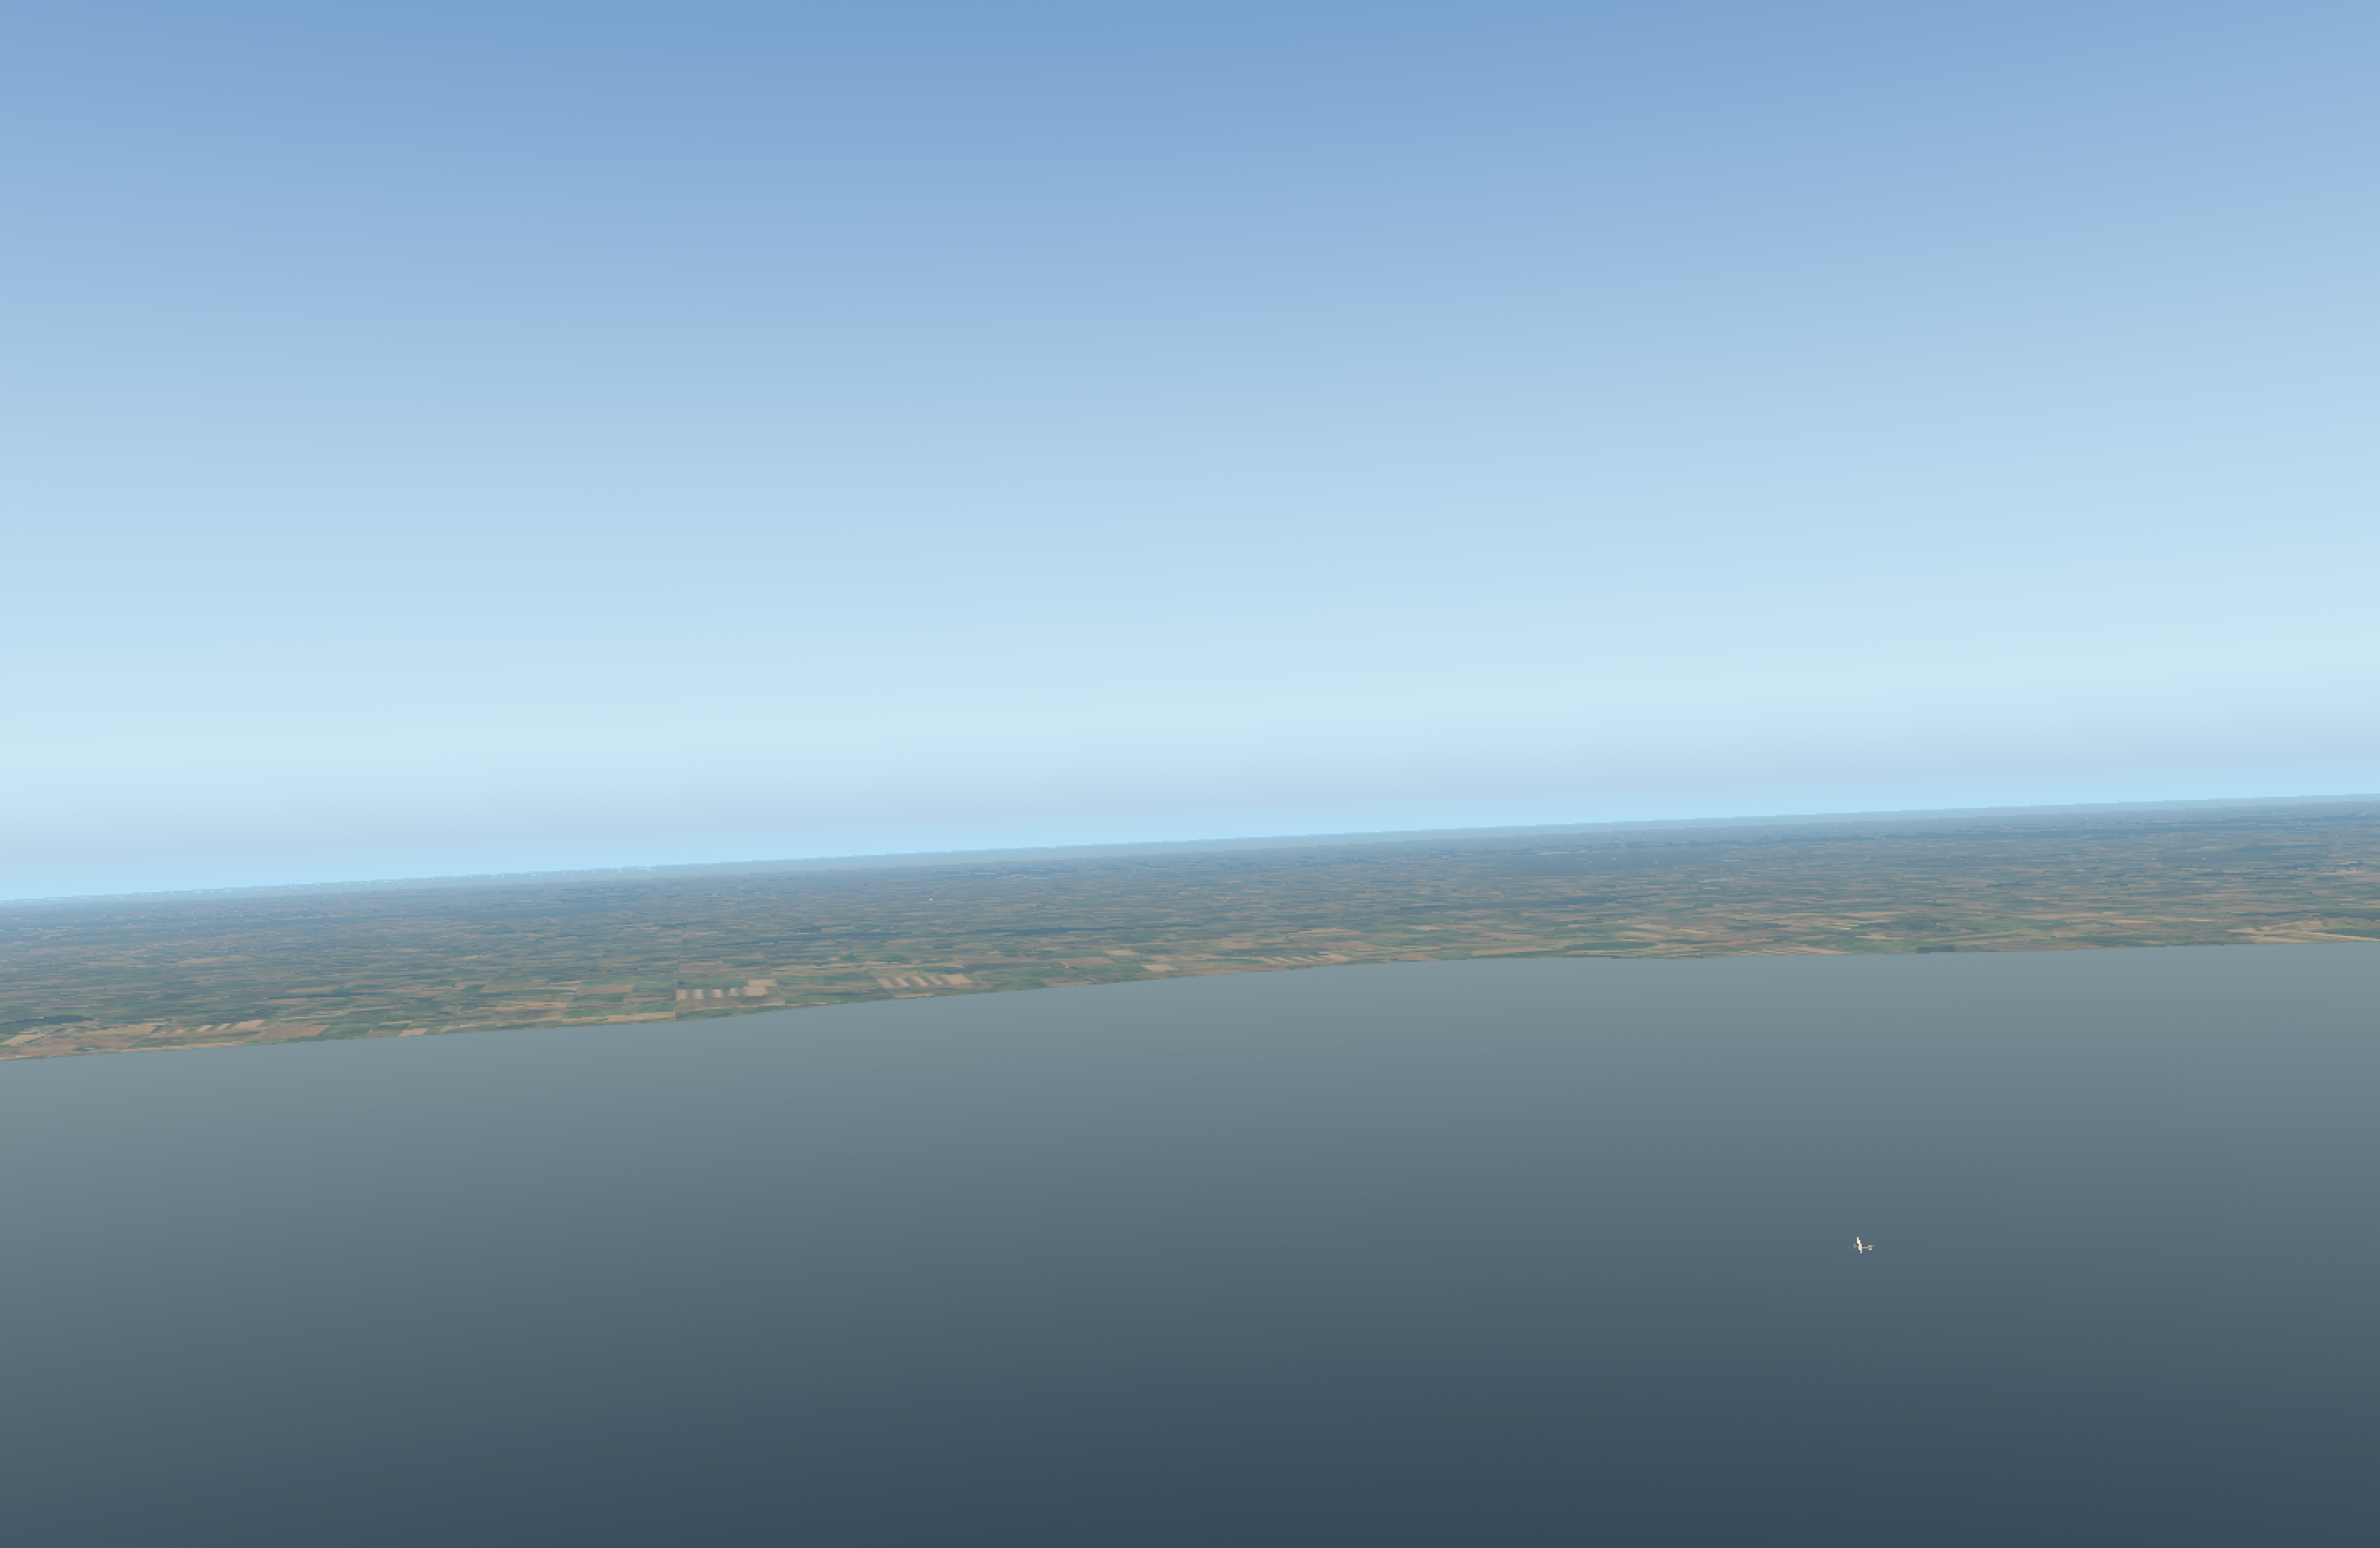aircraft: (1849, 1243, 1867, 1250)
